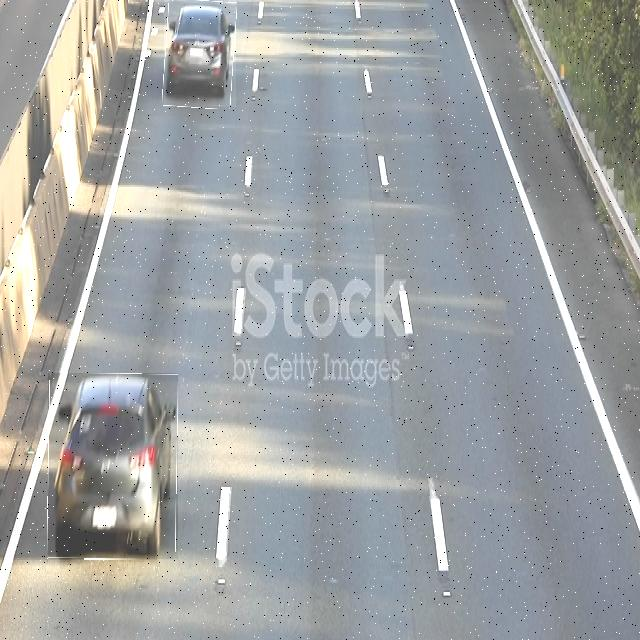Car: (48, 373, 178, 560), (164, 0, 236, 107)
